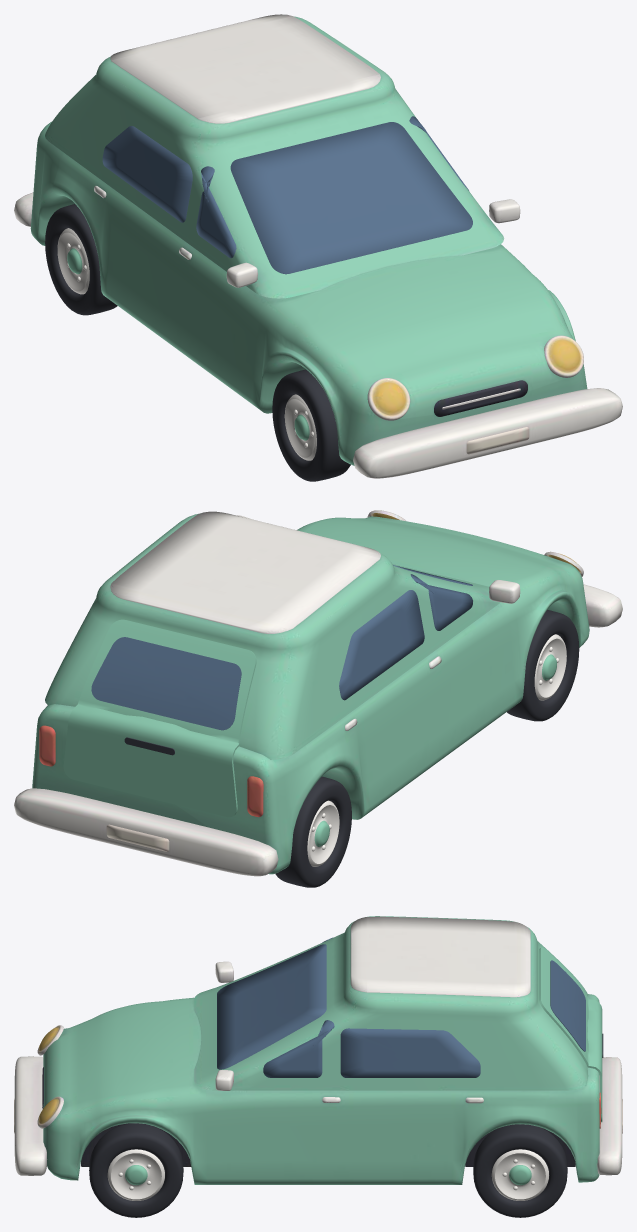
The model's file is hatchback.glb.
3 renders of one model, top to bottom at view 1: azimuth 30°, elevation 25°; view 2: azimuth 150°, elevation 25°; view 3: azimuth 270°, elevation 25°, orthographic. The views are drawn at different scales.
Visible parts, largest first — view 1: hatchback_body, hatchback_windows, hatchback_wheel_fr, hatchback_wheel_rr; view 2: hatchback_body, hatchback_tailgate, hatchback_windows, hatchback_wheel_rr, hatchback_wheel_fr; view 3: hatchback_body, hatchback_windows, hatchback_wheel_fl, hatchback_wheel_rl, hatchback_tailgate.
Part boxes in pixels (<box>): hatchback_body: <box>14,14,622,478</box>; hatchback_windows: <box>102,116,472,274</box>; hatchback_wheel_fr: <box>272,369,350,481</box>; hatchback_wheel_rr: <box>45,204,117,315</box>; hatchback_body: <box>14,510,622,876</box>; hatchback_tailgate: <box>63,619,256,817</box>; hatchback_windows: <box>339,565,472,700</box>; hatchback_wheel_rr: <box>275,776,351,887</box>; hatchback_wheel_fr: <box>507,610,579,721</box>; hatchback_body: <box>14,916,622,1184</box>; hatchback_windows: <box>217,937,480,1077</box>; hatchback_wheel_fl: <box>89,1123,183,1217</box>; hatchback_wheel_rl: <box>473,1124,567,1217</box>; hatchback_tailgate: <box>539,947,603,1122</box>.
Size of the model in its own units: 1.85 by 1.54 by 4.
Materials: 17 (1 with a texture image).
